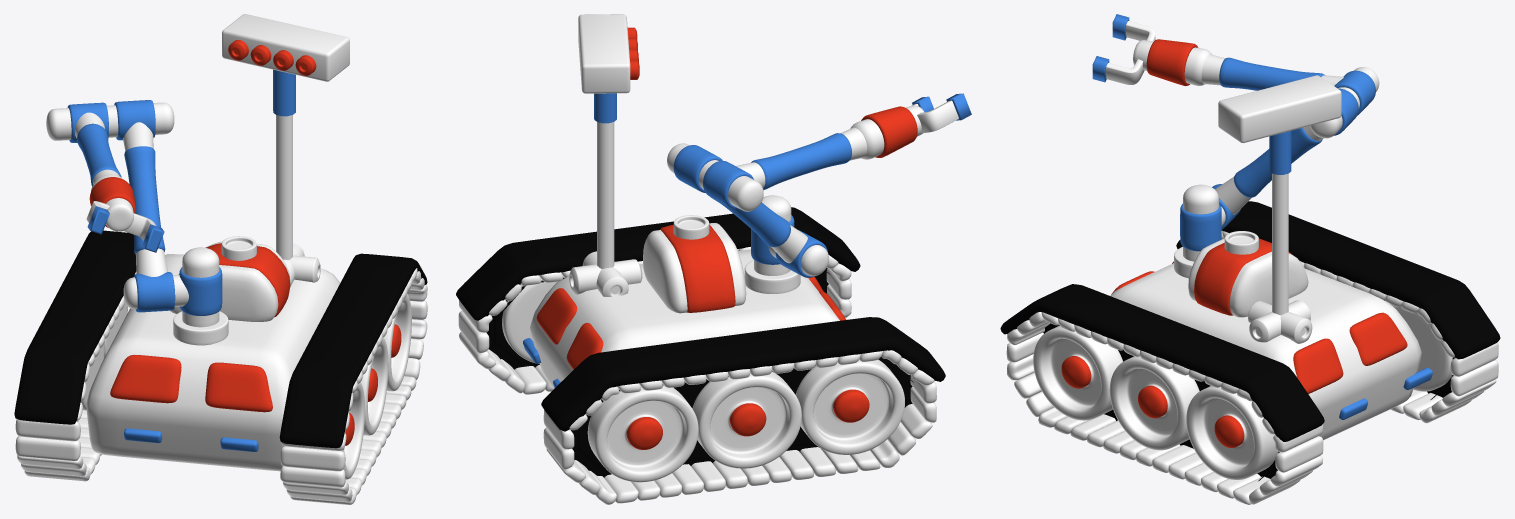
The model's file is military-robot-3d-animated-icon-1408586785612.glb.
3 renders of one model, left to right at view 1: azimuth 30°, elevation 25°; view 2: azimuth 150°, elevation 25°; view 3: azimuth 270°, elevation 25°, orthographic. The views are drawn at different scales.
Parts seen in each view (by area): view 1: Cube.281, Plane.071, Plane.067, Plane.068, Cube.273, Plane.064, Cylinder.383, Cube.270, Cube.278, Cylinder.385, NurbsPath.107, Cylinder.390 (+19 smaller); view 2: Cylinder.382, Plane.064, Plane.067, Cube.281, Plane.071, Plane.068, Cube.270, Cube.277, Cube.278, Plane.066, Cube.273, Cylinder.394 (+18 smaller); view 3: Cylinder.383, Cube.281, Plane.071, Plane.068, Plane.067, Cube.270, Plane.064, Cube.273, Cube.278, Cube.277, NurbsPath.107, Cylinder.396 (+17 smaller).
Part boxes in pixels (<box>): Cube.281: <box>86,254,340,471</box>; Plane.071: <box>279,253,427,448</box>; Plane.067: <box>14,230,136,424</box>; Plane.068: <box>280,268,427,504</box>; Cube.273: <box>110,354,272,412</box>; Plane.064: <box>15,272,136,481</box>; Cylinder.383: <box>341,294,411,479</box>; Cube.270: <box>222,14,349,81</box>; Cube.278: <box>170,241,290,321</box>; Cylinder.385: <box>173,247,228,345</box>; NurbsPath.107: <box>276,115,292,260</box>; Cylinder.390: <box>124,146,165,254</box>; Cylinder.382: <box>587,359,904,482</box>; Plane.064: <box>543,350,936,504</box>; Plane.067: <box>541,317,945,431</box>; Cube.281: <box>530,249,839,389</box>; Plane.071: <box>456,207,860,320</box>; Plane.068: <box>458,247,851,394</box>; Cube.270: <box>578,14,630,93</box>; Cube.277: <box>660,224,735,312</box>; Cube.278: <box>643,223,746,313</box>; Plane.066: <box>571,357,913,477</box>; Cube.273: <box>536,276,846,369</box>; Cylinder.394: <box>751,133,851,190</box>; Cylinder.383: <box>1033,325,1278,479</box>; Cube.281: <box>1110,263,1421,440</box>; Plane.071: <box>1000,284,1324,441</box>; Plane.068: <box>1006,312,1323,504</box>; Plane.067: <box>1176,201,1500,359</box>; Cube.270: <box>1218,75,1341,143</box>; Plane.064: <box>1221,231,1498,423</box>; Cube.273: <box>1111,261,1407,393</box>; Cube.278: <box>1188,238,1308,317</box>; Cube.277: <box>1194,238,1291,315</box>; NurbsPath.107: <box>1272,173,1288,315</box>; Cylinder.396: <box>1248,300,1312,343</box>.
Size of the model in its own units: 10.72 by 8.42 by 10.68.
